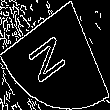N_NE: (32, 25, 78, 85)
